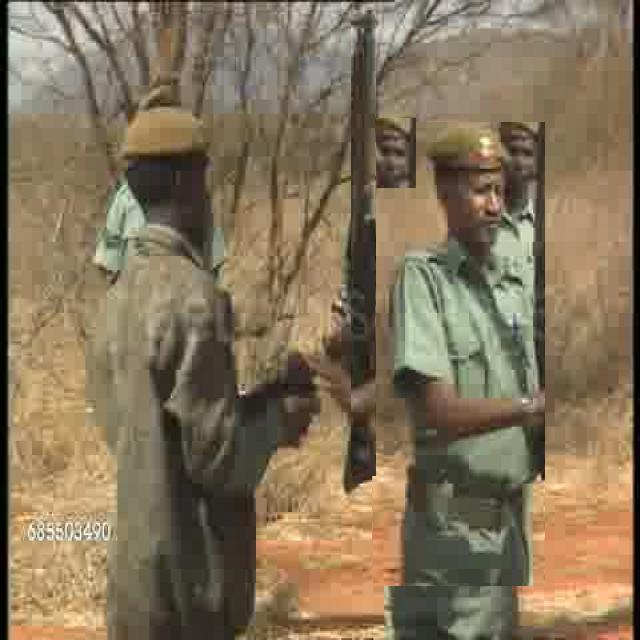poacher: (106, 106, 292, 608), (372, 123, 545, 586), (373, 118, 416, 188)
weapon: (351, 11, 376, 477)
